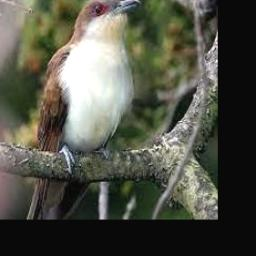Cuckoo: (26, 0, 141, 219)
